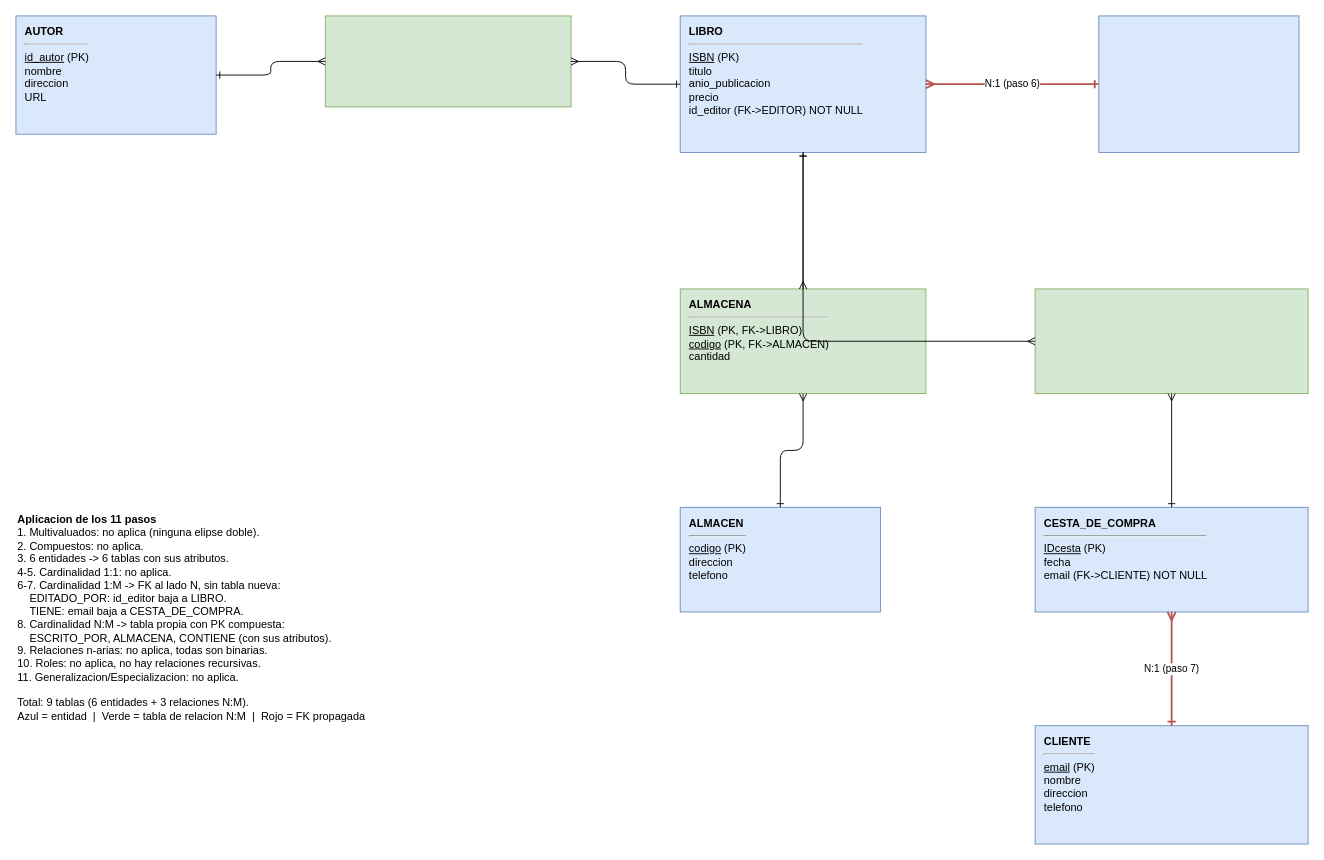
Some shapes in this 1324 by 860 pixel diagram are drawn without their labels. Each missing label, with the box of its shape:
CONTIENE ISBN (PK, FK->LIBRO) IDcesta (PK, FK->CESTA_DE_COMPRA) cantidad: (1034, 288, 1308, 394)
EDITOR id_editor (PK) nombre direccion telefono URL: (1098, 15, 1299, 152)
ESCRITO_POR id_autor (PK, FK->AUTOR) ISBN (PK, FK->LIBRO): (324, 15, 571, 107)
